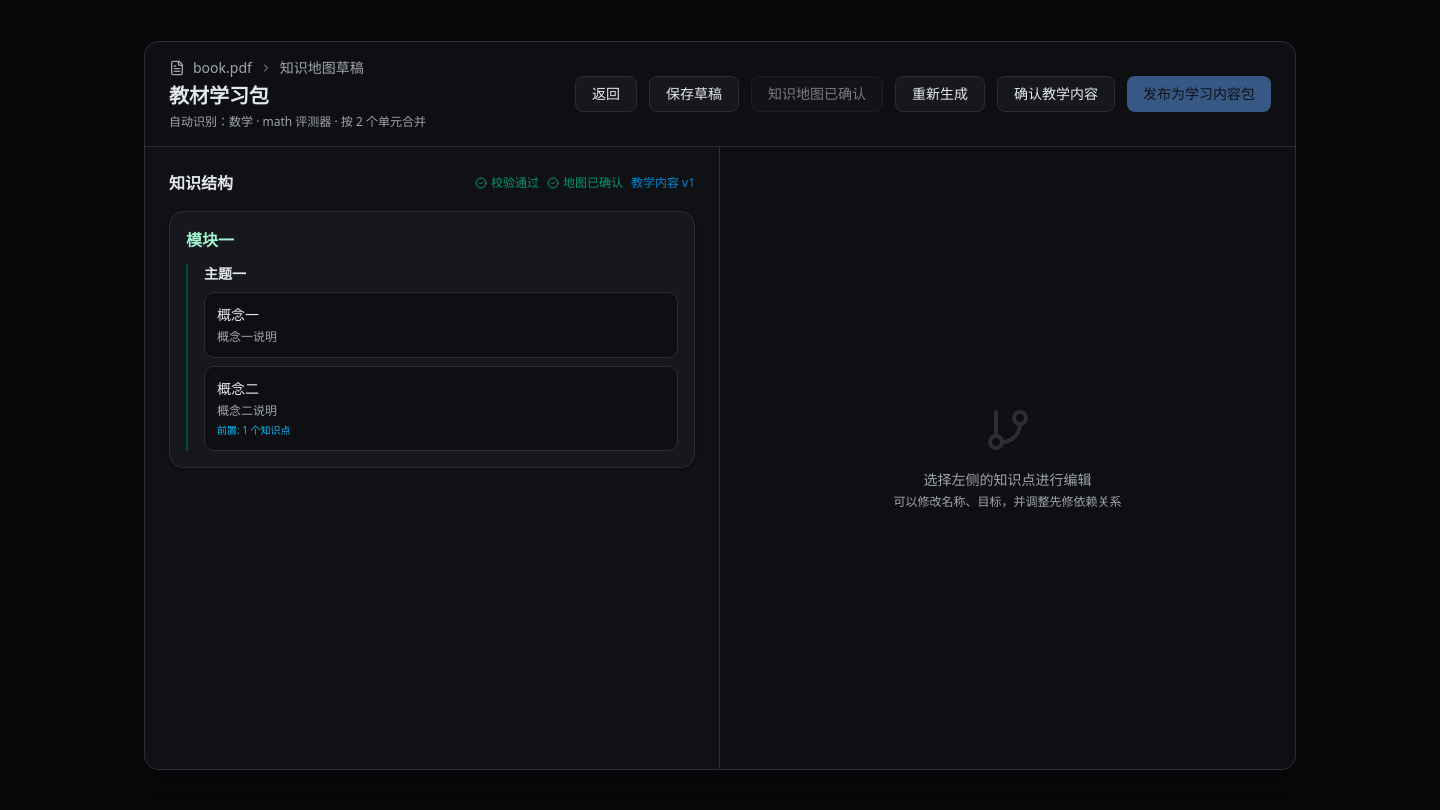
private tutor source-grounded draft editor › shows automatic unit aggregation and the math evaluator contract
Expected: the text "自动识别：数学 · math 评测器 · 按 2 个单元合并" is shown, [169, 112, 426, 130]
Step 1. Click the text "概念一" → {"x": 238, "y": 314}, box [217, 304, 259, 324]
(page scrolled)
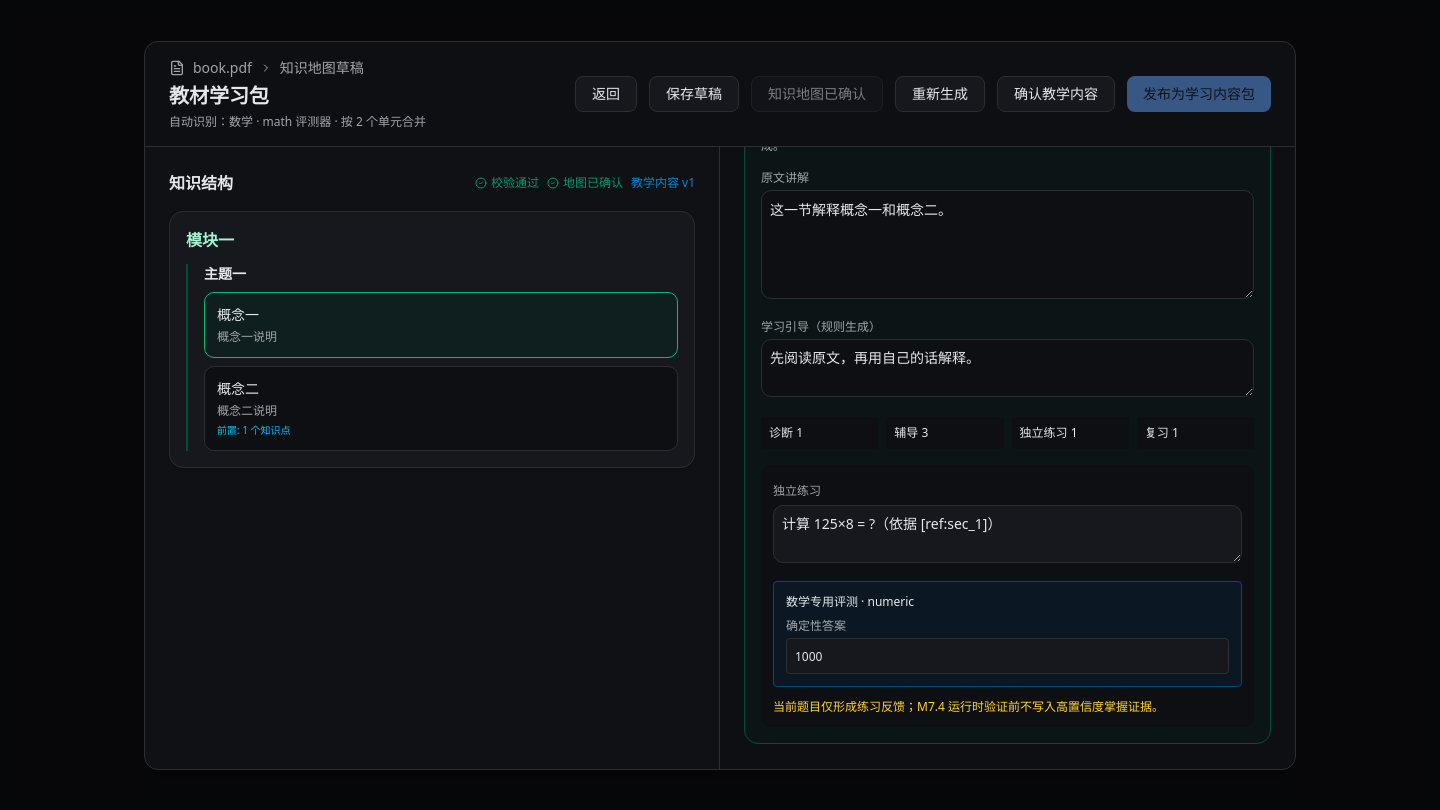
Now the text "数学专用评测 · numeric" is shown, box [786, 593, 914, 610]
Now the field named "数学确定性答案" holds "1000", box [786, 638, 1229, 674]
